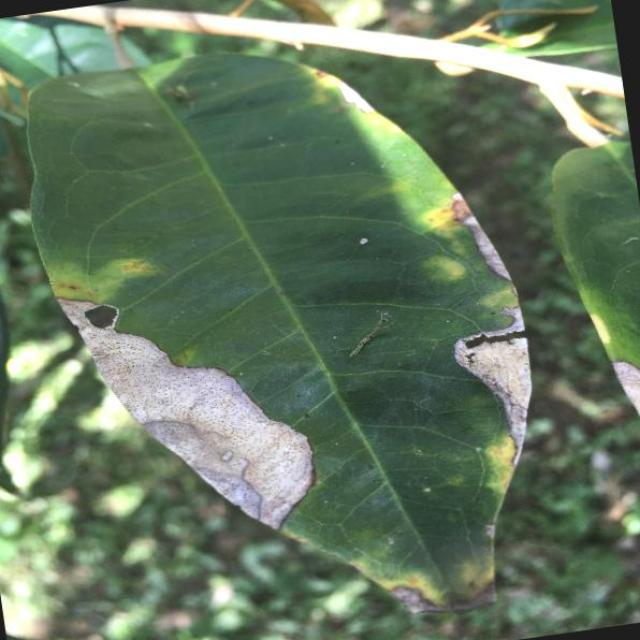Leaf Blight: (1, 4, 576, 640)
